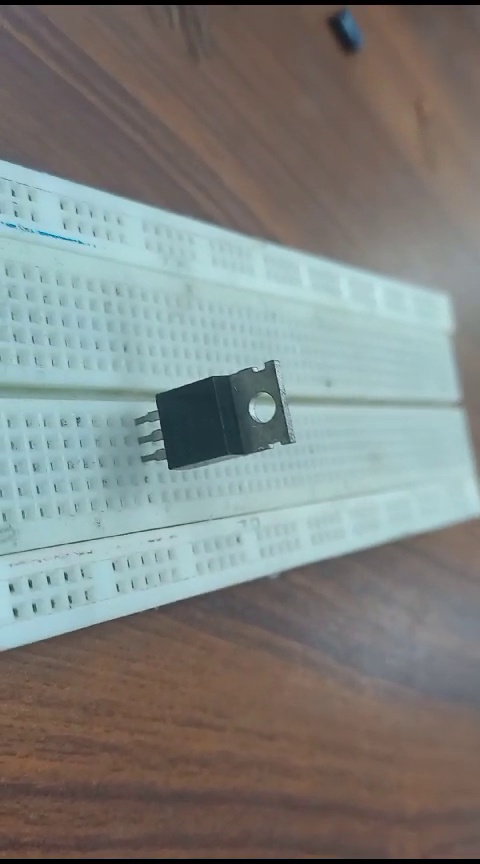voltage regulator: (124, 367, 298, 472)
